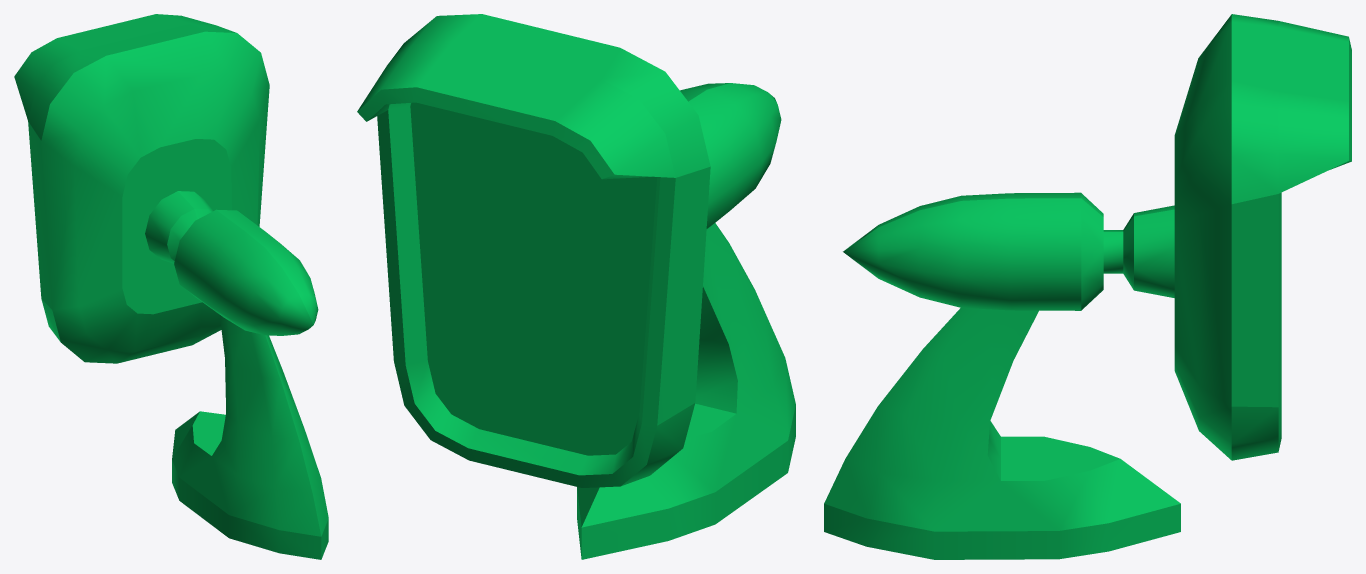
File: obj_rewards_sidemirror.fbx
3 views of the same model, side by side, from view 1: azimuth 30°, elevation 25°; view 2: azimuth 150°, elevation 25°; view 3: azimuth 270°, elevation 25° (orthographic). The views are drawn at different scales.
Parts seen in each view (by area): view 1: sm_part1_lp.003, sm_part2_lp.003; view 2: sm_part1_lp.003, sm_part2_lp.003; view 3: sm_part1_lp.003, sm_part2_lp.003.
Boxes of the visible parts, x1,y1,x2,y2 form: sm_part1_lp.003: [28, 24, 328, 559]; sm_part2_lp.003: [14, 14, 318, 335]; sm_part1_lp.003: [377, 14, 795, 559]; sm_part2_lp.003: [357, 42, 781, 228]; sm_part1_lp.003: [824, 14, 1281, 559]; sm_part2_lp.003: [843, 21, 1351, 310].
Bounding box in the file's own units: 1.04 × 1.71 × 1.7.
